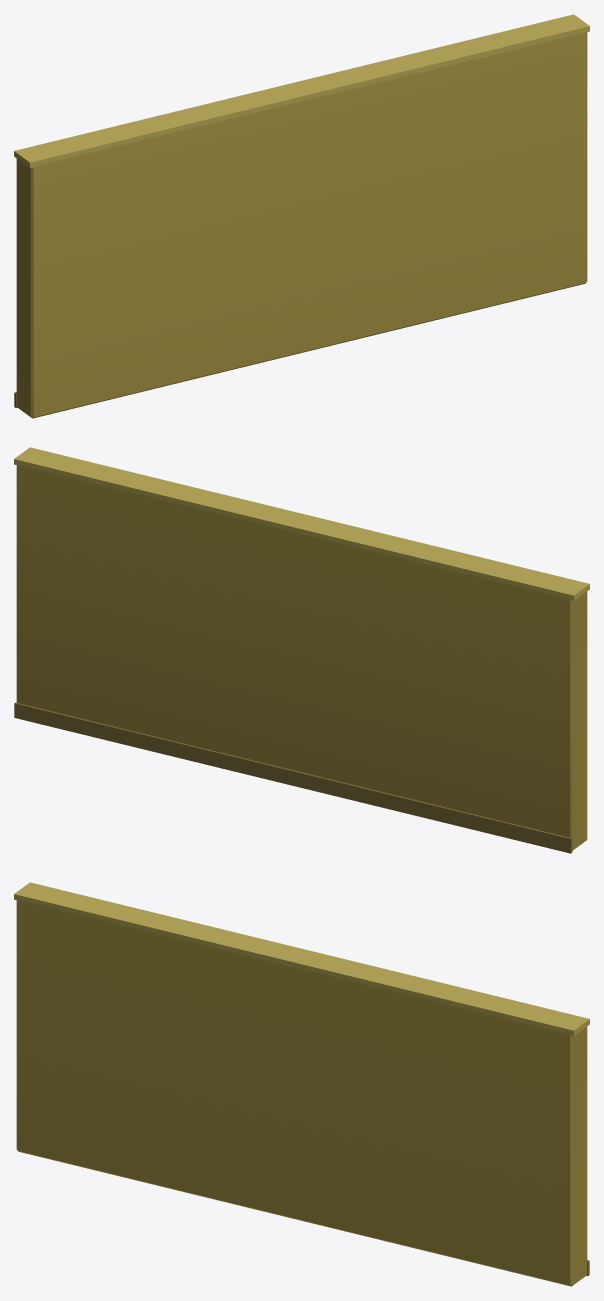
Rendered from BR_WallPanel.glb.
3 views of the same model, one above another, from view 1: azimuth 30°, elevation 25°; view 2: azimuth 150°, elevation 25°; view 3: azimuth 330°, elevation 25° (orthographic).
Parts seen in each view (by area): view 1: BR_WallPanel__Body; view 2: BR_WallPanel__Body; view 3: BR_WallPanel__Body.
Part boxes in pixels (x1,y1,x2,y2): BR_WallPanel__Body: [14, 14, 589, 418]; BR_WallPanel__Body: [14, 447, 589, 853]; BR_WallPanel__Body: [14, 882, 589, 1286].
Size of the model in its own units: 32.2 by 14.15 by 1.73.
